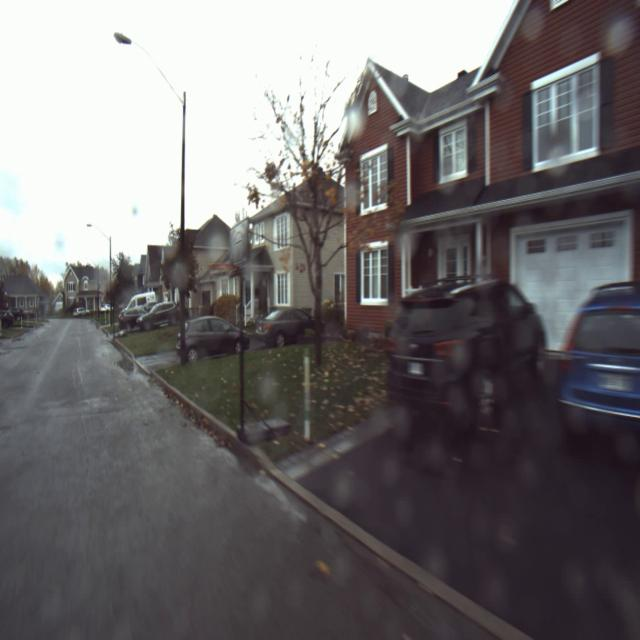car: (168, 306, 255, 372)
